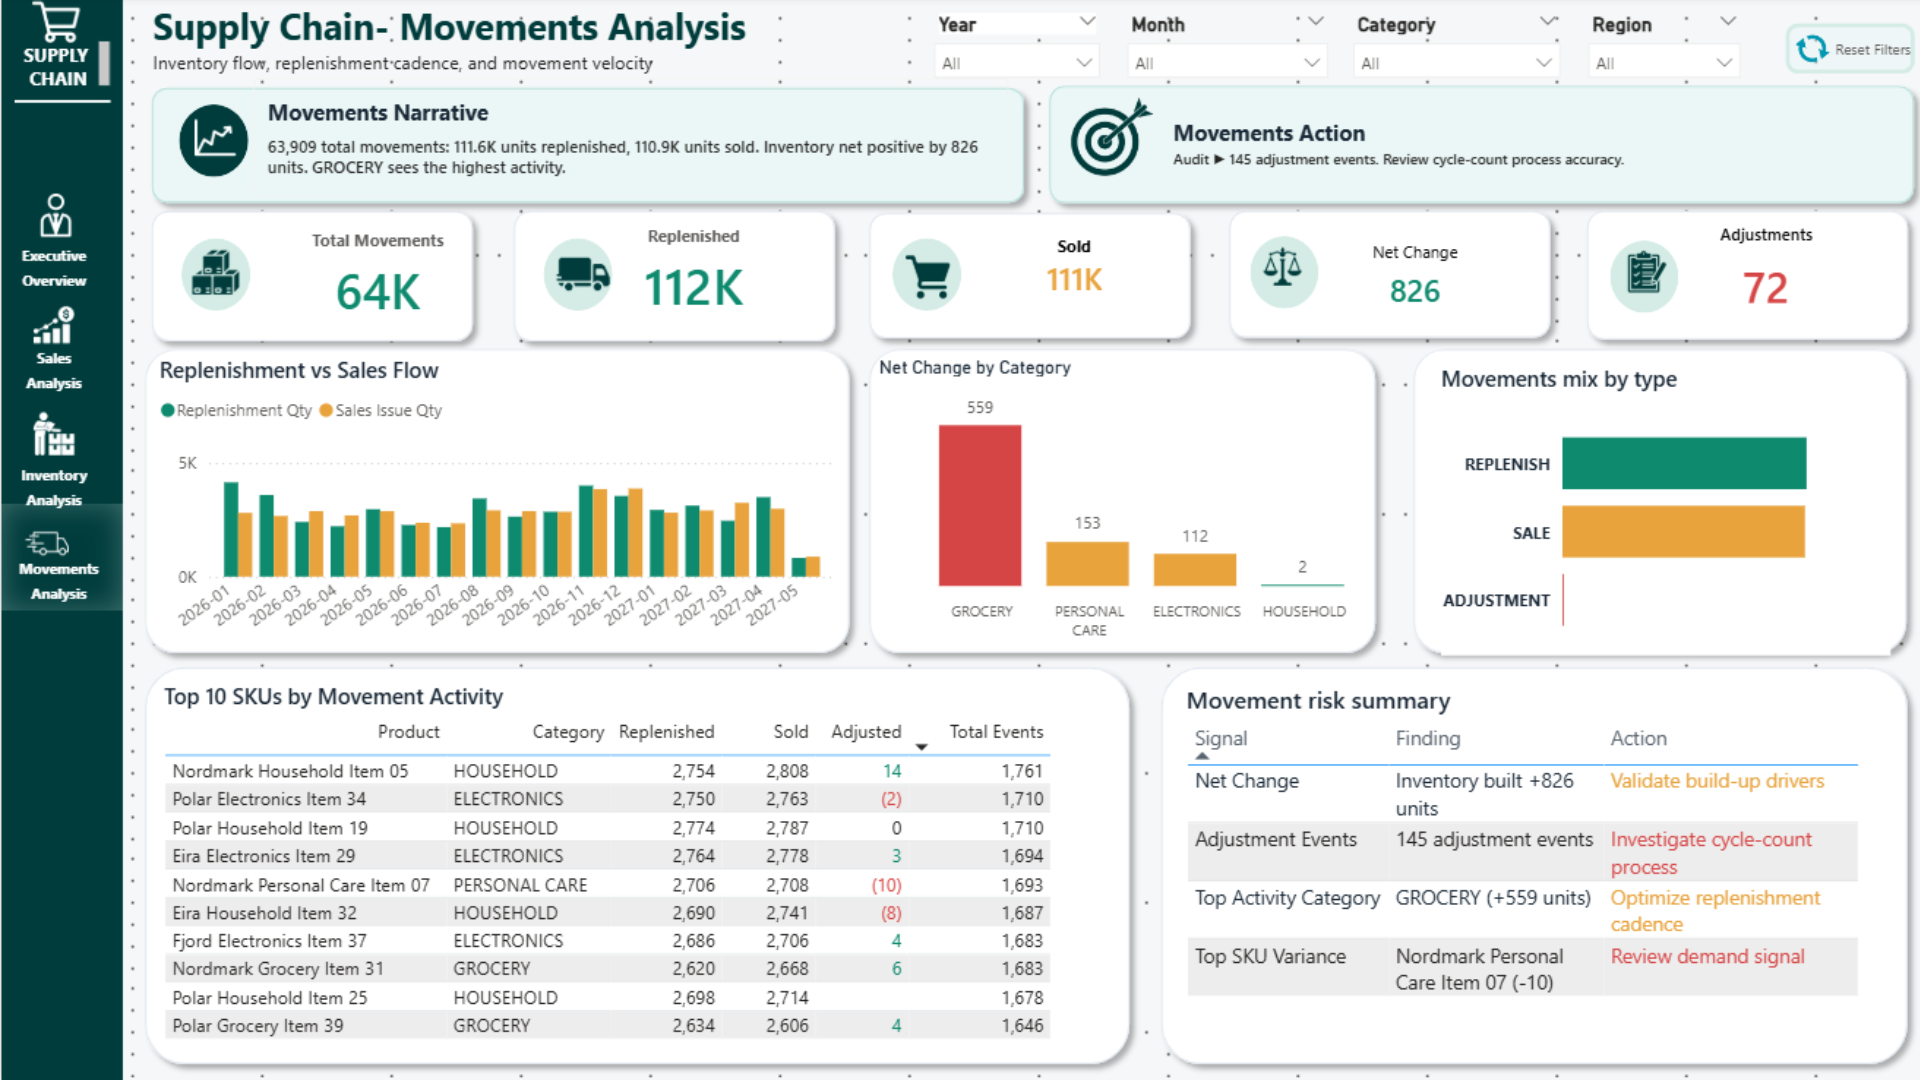

Layout of this report page (visuals, bound fields, positions):
{"tool":"powerbi","page":{"name":"Movements Analysis","canvas":[1440,810],"ordinal":3},"visuals":[{"type":"textbox","box":[107.5,0,573.8,87.5],"z":0},{"type":"shape","box":[0,0,90,810],"z":1000},{"type":"slicer","fields":{"Values":["dim_date.Year"]},"box":[681.2,8.8,142.8,75],"z":1000,"group":"g1"},{"type":"group","id":"g1","title":"Group 1","box":[681.2,8.8,617.5,75],"z":2000},{"type":"slicer","fields":{"Values":["dim_date.Date.Variation.Date Hierarchy.Month"]},"box":[824,8.8,168.8,75],"z":2000,"group":"g1"},{"type":"slicer","fields":{"Values":["dim_location.Region"]},"box":[1165.7,9.1,132.7,75.3],"z":3000,"group":"g1"},{"type":"textbox","box":[5.6,30,80,44.4],"z":3000},{"type":"image","box":[23.3,0,35.6,41.1],"z":4000},{"type":"slicer","fields":{"Values":["dim_product.Category"]},"box":[992.5,9.1,173.1,75.3],"z":4000,"group":"g1"},{"type":"actionButton","box":[1323.3,21.7,95.8,37.5],"z":5000},{"type":"image","box":[24,130,32,67],"z":6000,"group":"g4"},{"type":"shape","box":[103,151,255.9,114.5],"z":6000},{"type":"shape","box":[98,254.4,540,243.3],"z":6000,"group":"g5"},{"type":"shape","box":[10,58.9,71.1,41.1],"z":7000},{"type":"textbox","box":[0,177,78,46],"z":8000,"group":"g4"},{"type":"shape","box":[97.8,490,747.8,312.2],"z":8000},{"type":"shape","box":[132.5,85,51.2,52.5],"z":9000},{"type":"group","id":"g2","title":"Group 2","box":[102.5,58.8,1325,105],"z":10000},{"type":"image","box":[22,289,32,72],"z":10000,"group":"g4"},{"type":"shape","box":[132.5,81.2,51.2,53.8],"z":11000},{"type":"shape","box":[102.5,60.6,664.7,103],"z":12000,"group":"g2"},{"type":"shape","box":[371.4,151,255.9,114.5],"z":12000},{"type":"textbox","box":[0,254,78,57],"z":12000,"group":"g4"},{"type":"shape","box":[900.7,151,255.9,112.1],"z":13000},{"type":"image","box":[1330,1.7,25.8,77.5],"z":14000},{"type":"image","box":[22,200,32,89],"z":14000,"group":"g4"},{"type":"shape","box":[768.5,58.8,659,105],"z":15000,"group":"g2"},{"type":"shape","box":[1166.5,151,255.9,113.3],"z":15000},{"type":"image","box":[755,63.8,137.5,88.8],"z":16000},{"type":"textbox","box":[0,340,78,56],"z":16000,"group":"g4"},{"type":"cardVisual","fields":{"Data":["_Measures.Movements Action"]},"box":[850.8,66.7,564.2,88],"z":17000,"group":"g2"},{"type":"shape","box":[634.8,152.2,255.9,110.8],"z":17000},{"type":"image","box":[142.7,66.4,30.9,79.1],"z":18000},{"type":"image","box":[18,362,32,88],"z":18000,"group":"g4"},{"type":"shape","box":[134.1,181.2,51.2,53.8],"z":19000},{"type":"cardVisual","title":"Total Sales","fields":{"Data":["_Measures.Sales Issue Qty"]},"box":[718,164,156,109],"z":20000},{"type":"textbox","box":[0,409.5,85,56],"z":20000,"group":"g8"},{"type":"shape","box":[402.3,180.1,51.2,53.8],"z":21000},{"type":"cardVisual","title":"Total Sales","fields":{"Data":["_Measures.Inventory Movements"]},"box":[962.9,155.6,170.2,104.7],"z":22000},{"type":"cardVisual","title":"Total Sales","fields":{"Data":["_Measures.Replenishment Qty"]},"box":[427.8,152.2,171.1,104.4],"z":23000},{"type":"shape","box":[661.2,181.1,51.2,53.8],"z":24000},{"type":"shape","box":[1192.7,181.8,50.9,53.8],"z":25000},{"type":"cardVisual","title":"Total Sales","fields":{"Data":["_Measures.Total Movement Transactions"]},"box":[174.4,156.7,210,104.4],"z":26000},{"type":"cardVisual","fields":{"Data":["_Measures.Movements Narrative"]},"box":[185.1,60.7,562.6,89.9],"z":27000},{"type":"cardVisual","title":"Adjustments","fields":{"Data":["_Measures.Adjustment Qty"]},"box":[1223.8,168.8,170,72.5],"z":28000},{"type":"image","box":[142.4,183.5,34.7,44.1],"z":29000},{"type":"shape","box":[634.4,254.4,393.1,243.3],"z":29000,"group":"g3"},{"type":"shape","box":[1038.9,254.4,383.3,243.3],"z":29000,"group":"g6"},{"type":"shape","box":[851.1,490,571.1,312.2],"z":29000,"group":"g7"},{"type":"image","box":[411.2,155.6,39.4,102.5],"z":30000},{"type":"image","box":[670,191.2,33.8,33.1],"z":31000},{"type":"image","box":[936.2,174.6,28.5,51.5],"z":32000},{"type":"shape","box":[925.4,178.5,50.8,53.8],"z":33000},{"type":"image","box":[936.2,176.2,28.5,51.5],"z":34000},{"type":"image","box":[1204.6,187.7,32.3,36.9],"z":35000},{"type":"group","id":"g3","title":"Group 5","box":[634.4,254.4,400,243.3],"z":36000},{"type":"group","id":"g4","title":"Group 5","box":[0,130,77.8,320],"z":37000},{"type":"group","id":"g5","title":"Group 4","box":[98,254.4,540,243.3],"z":38000},{"type":"clusteredColumnChart","title":"Net Change by Category","fields":{"Category":["dim_product.Category"],"Y":["_Measures.Inventory Movements"]},"box":[645.9,269.5,388.5,216.7],"z":38002,"group":"g3"},{"type":"clusteredColumnChart","title":"Replenishment vs Sales Flow","fields":{"Category":["dim_date.Year-Month"],"Y":["_Measures.Replenishment Qty","_Measures.Sales Issue Qty"]},"box":[113,266.6,510.1,223.3],"z":39000,"group":"g5"},{"type":"tableEx","title":"Top 10 SKUs by Movement Activity","fields":{"Values":["dim_product.ProductName","dim_product.Category","_Measures.Replenishment Qty","_Measures.Sales Issue Qty","_Measures.Adjustment Qty","_Measures.Total Movement Transactions"]},"box":[115.6,508.9,708.9,271.1],"z":39000},{"type":"group","id":"g6","title":"Group 3","box":[1038.9,254.4,383.3,243.3],"z":40000},{"type":"group","id":"g7","title":"Group 3","box":[851.1,490,571.1,312.2],"z":41000},{"type":"tableEx","title":" Movement risk summary","fields":{"Values":["Risk Summary.Signal","_Measures.Risk Finding","_Measures.Risk Action"]},"box":[873.3,511.1,527.8,270],"z":42000},{"type":"group","id":"g8","title":"Group 4","box":[0,409.5,85,56],"z":43000},{"type":"actionButton","box":[0,378,90,79],"z":43001},{"type":"actionButton","box":[0,144,90,79],"z":43002},{"type":"actionButton","box":[0,222,90,79],"z":43003},{"type":"actionButton","box":[0,300,90,79],"z":43004},{"type":"clusteredBarChart","title":"Movements mix by type","fields":{"Category":["fact_inventory_movements.MovementType"],"Y":["_Measures.Inventory Movements (Absolute)"]},"box":[1068.1,273.3,333.3,216.7],"z":46001,"group":"g6"}]}

Visuals, with their boxes on the page's 1440x810 design canvas (x1, y1, x2, y2). These are canvas units, not pixel positions in the 1920x1080 screenshot, which may show the page scaled, cropped or inside an application window:
textbox: x1=108 y1=0 x2=681 y2=88
shape: x1=0 y1=0 x2=90 y2=810
slicer - dim_date.Year: x1=681 y1=9 x2=824 y2=84
"Group 1" group: x1=681 y1=9 x2=1299 y2=84
slicer - dim_date.Date.Variation.Date Hierarchy.Month: x1=824 y1=9 x2=993 y2=84
slicer - dim_location.Region: x1=1166 y1=9 x2=1298 y2=84
textbox: x1=6 y1=30 x2=86 y2=74
image: x1=23 y1=0 x2=59 y2=41
slicer - dim_product.Category: x1=992 y1=9 x2=1166 y2=84
actionButton: x1=1323 y1=22 x2=1419 y2=59
image: x1=24 y1=130 x2=56 y2=197
shape: x1=103 y1=151 x2=359 y2=266
shape: x1=98 y1=254 x2=638 y2=498
shape: x1=10 y1=59 x2=81 y2=100
textbox: x1=0 y1=177 x2=78 y2=223
shape: x1=98 y1=490 x2=846 y2=802
shape: x1=132 y1=85 x2=184 y2=138
"Group 2" group: x1=102 y1=59 x2=1428 y2=164
image: x1=22 y1=289 x2=54 y2=361
shape: x1=132 y1=81 x2=184 y2=135
shape: x1=102 y1=61 x2=767 y2=164
shape: x1=371 y1=151 x2=627 y2=266
textbox: x1=0 y1=254 x2=78 y2=311
shape: x1=901 y1=151 x2=1157 y2=263
image: x1=1330 y1=2 x2=1356 y2=79
image: x1=22 y1=200 x2=54 y2=289
shape: x1=768 y1=59 x2=1428 y2=164
shape: x1=1166 y1=151 x2=1422 y2=264
image: x1=755 y1=64 x2=892 y2=153
textbox: x1=0 y1=340 x2=78 y2=396
cardVisual - _Measures.Movements Action: x1=851 y1=67 x2=1415 y2=155
shape: x1=635 y1=152 x2=891 y2=263
image: x1=143 y1=66 x2=174 y2=146
image: x1=18 y1=362 x2=50 y2=450
shape: x1=134 y1=181 x2=185 y2=235
"Total Sales" cardVisual: x1=718 y1=164 x2=874 y2=273
textbox: x1=0 y1=410 x2=85 y2=466
shape: x1=402 y1=180 x2=454 y2=234
"Total Sales" cardVisual: x1=963 y1=156 x2=1133 y2=260
"Total Sales" cardVisual: x1=428 y1=152 x2=599 y2=257
shape: x1=661 y1=181 x2=712 y2=235
shape: x1=1193 y1=182 x2=1244 y2=236
"Total Sales" cardVisual: x1=174 y1=157 x2=384 y2=261
cardVisual - _Measures.Movements Narrative: x1=185 y1=61 x2=748 y2=151
"Adjustments" cardVisual: x1=1224 y1=169 x2=1394 y2=241
image: x1=142 y1=184 x2=177 y2=228
shape: x1=634 y1=254 x2=1028 y2=498
shape: x1=1039 y1=254 x2=1422 y2=498
shape: x1=851 y1=490 x2=1422 y2=802
image: x1=411 y1=156 x2=451 y2=258
image: x1=670 y1=191 x2=704 y2=224
image: x1=936 y1=175 x2=965 y2=226
shape: x1=925 y1=178 x2=976 y2=232
image: x1=936 y1=176 x2=965 y2=228
image: x1=1205 y1=188 x2=1237 y2=225
"Group 5" group: x1=634 y1=254 x2=1034 y2=498
"Group 5" group: x1=0 y1=130 x2=78 y2=450
"Group 4" group: x1=98 y1=254 x2=638 y2=498
"Net Change by Category" clusteredColumnChart: x1=646 y1=270 x2=1034 y2=486
"Replenishment vs Sales Flow" clusteredColumnChart: x1=113 y1=267 x2=623 y2=490
"Top 10 SKUs by Movement Activity" tableEx: x1=116 y1=509 x2=824 y2=780
"Group 3" group: x1=1039 y1=254 x2=1422 y2=498
"Group 3" group: x1=851 y1=490 x2=1422 y2=802
" Movement risk summary" tableEx: x1=873 y1=511 x2=1401 y2=781
"Group 4" group: x1=0 y1=410 x2=85 y2=466
actionButton: x1=0 y1=378 x2=90 y2=457
actionButton: x1=0 y1=144 x2=90 y2=223
actionButton: x1=0 y1=222 x2=90 y2=301
actionButton: x1=0 y1=300 x2=90 y2=379
"Movements mix by type" clusteredBarChart: x1=1068 y1=273 x2=1401 y2=490
